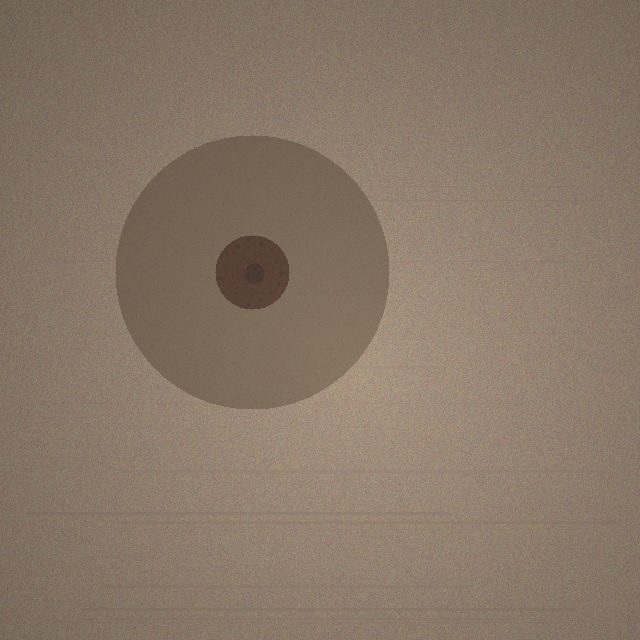cold_weld: (115, 135, 389, 409)
